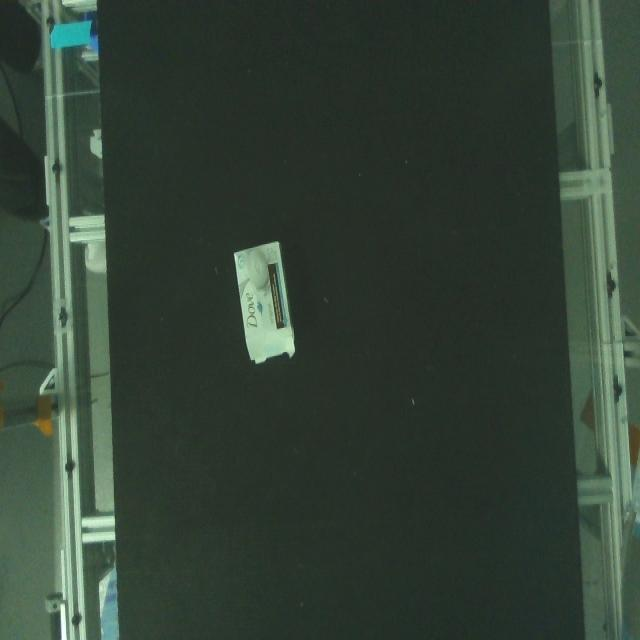paper: (228, 233, 310, 382)
